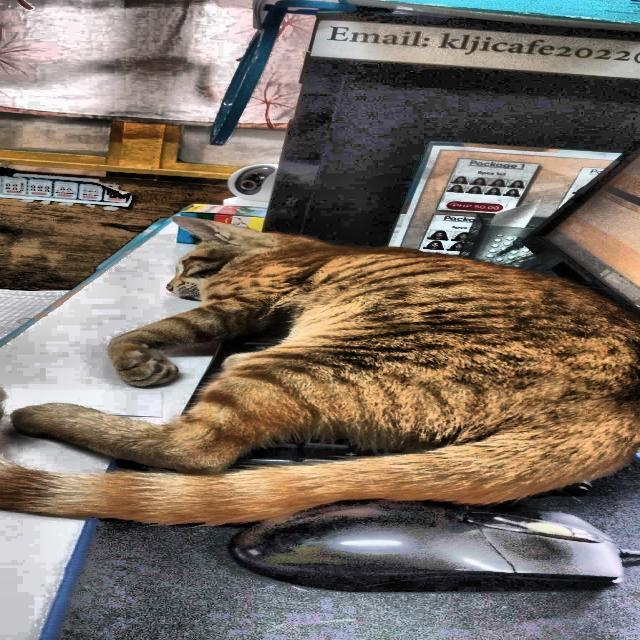Healthy skin: (294, 278, 502, 382)
